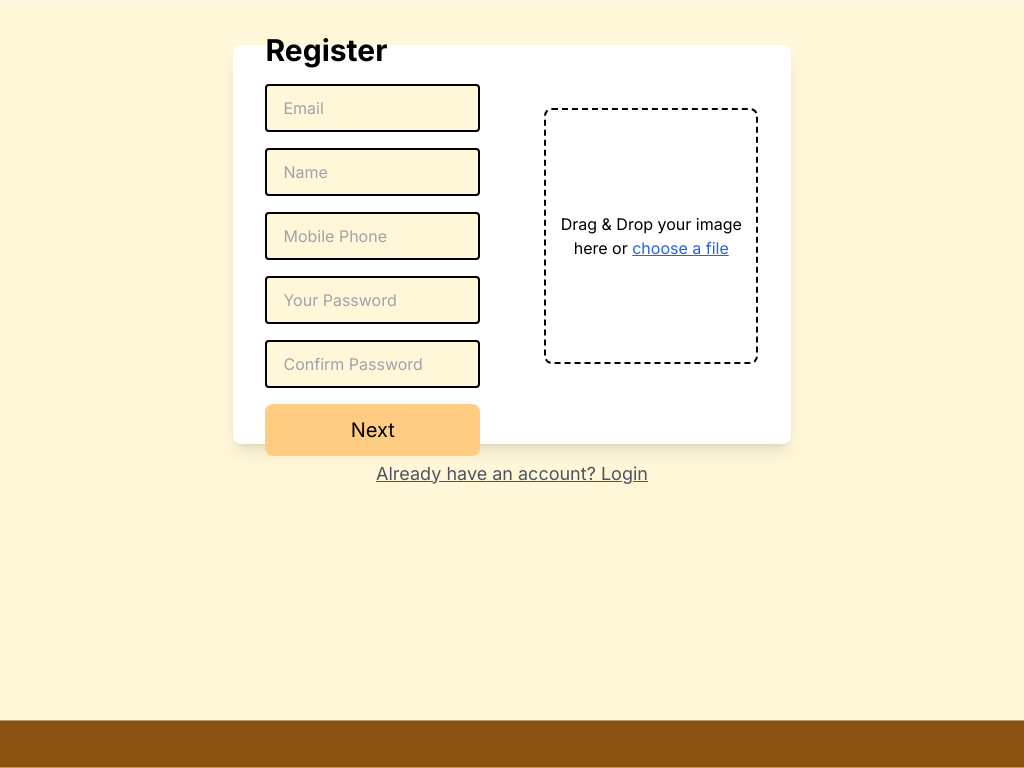
it: UserSignUp Component › handles signup failure and displays error
Type "test@example.com" into the field with placeholder "Email". click: (373, 108)
box: 266,84 -> 480,132
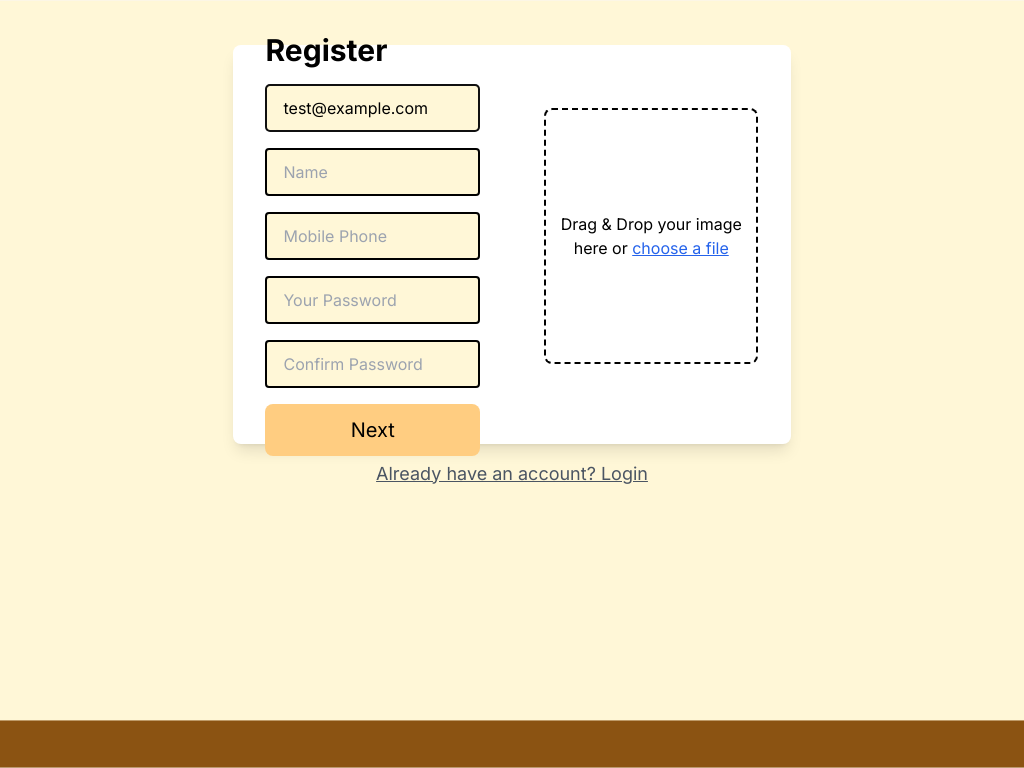
Type "John Doe" into the field with placeholder "Name". click: (373, 172)
box: 266,148 -> 480,196
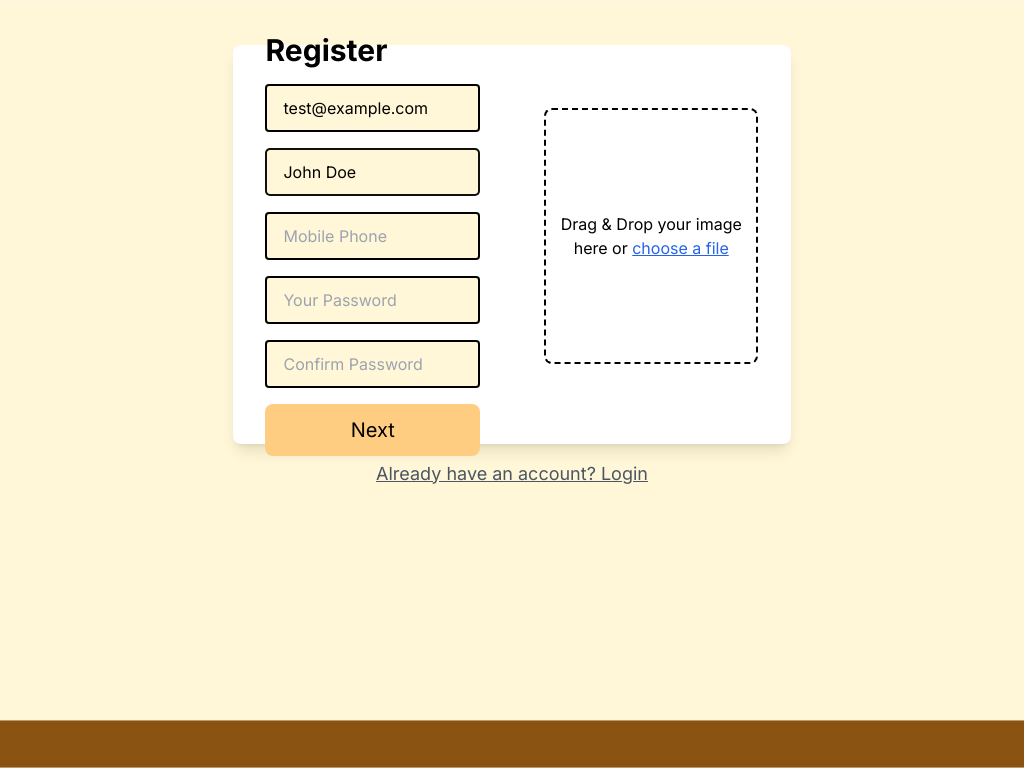
Type "1234567890" into the field with placeholder "Mobile Phone". click: (373, 236)
box: 266,212 -> 480,260
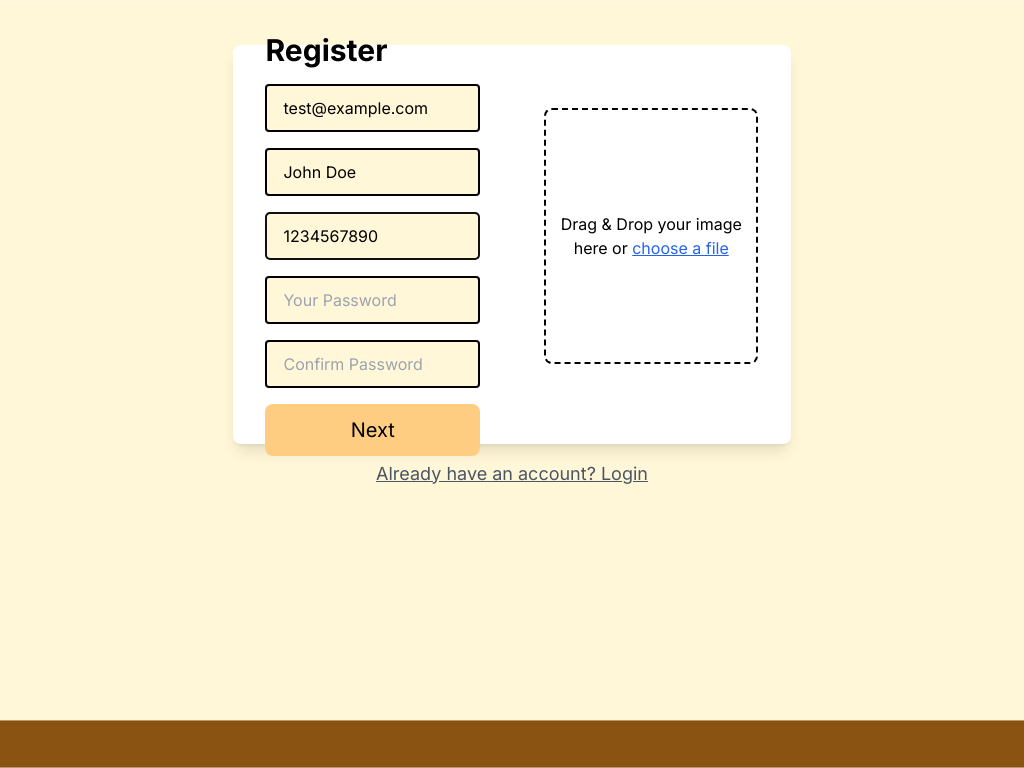
Type "password123" into the password field with placeholder "Your Password". click: (373, 300)
box: 266,276 -> 480,324
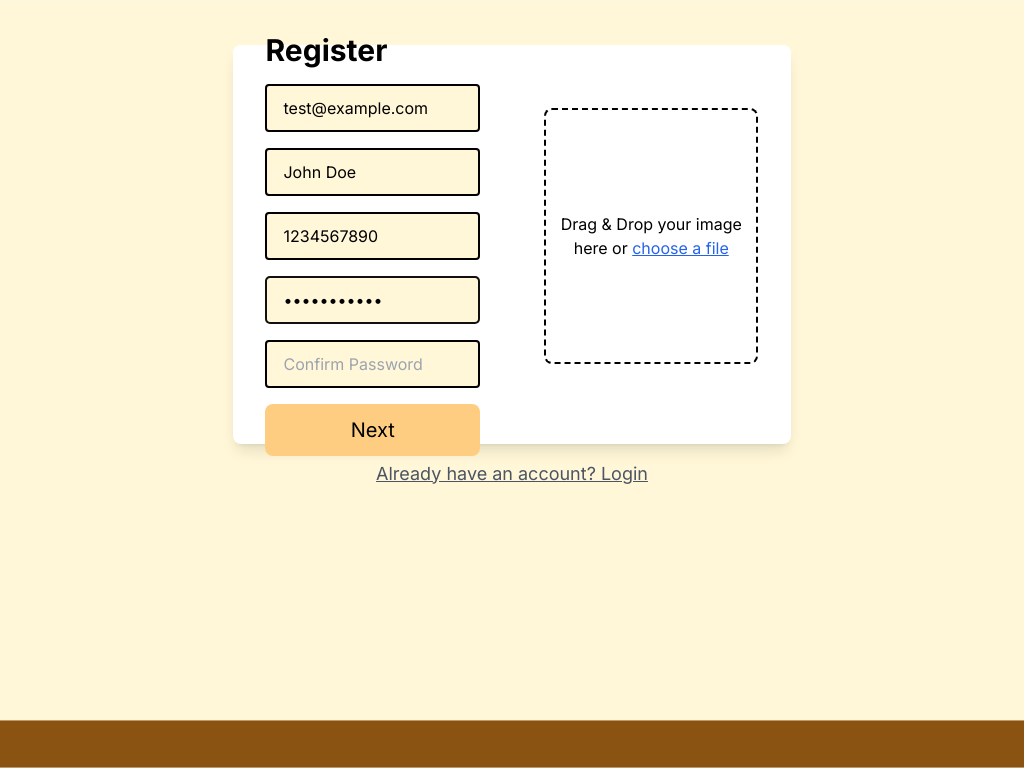
Type "password123" into the password field with placeholder "Confirm Password". click: (373, 364)
box: 266,340 -> 480,388
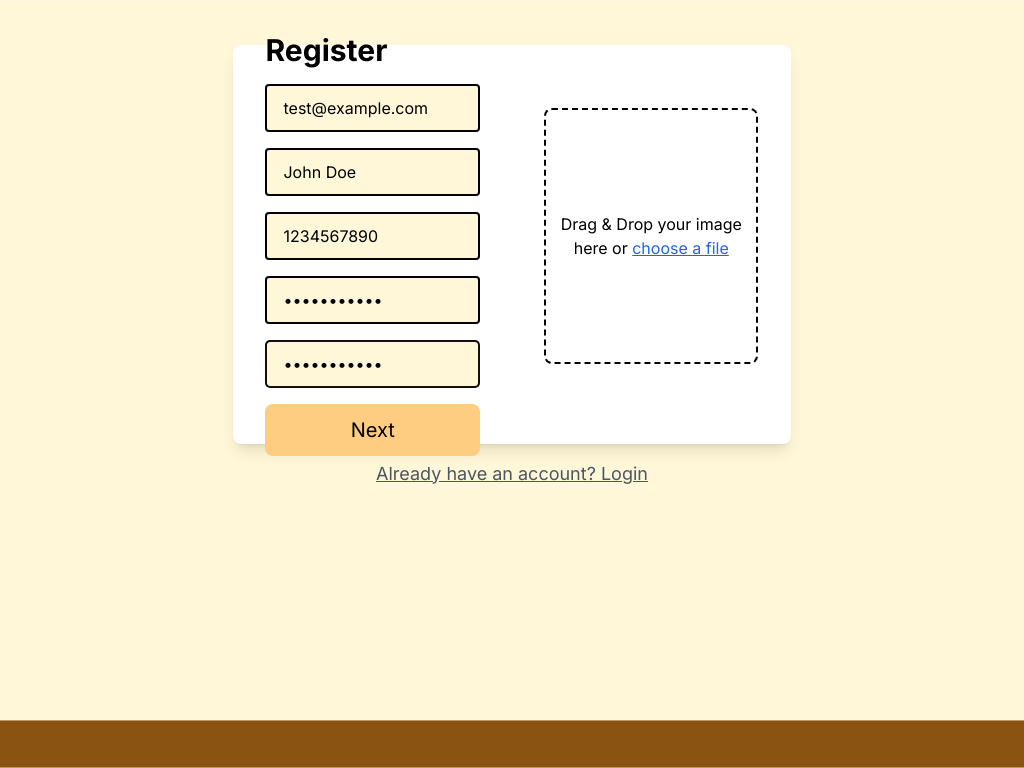
Note: Submit form
Click the button "Next". click: (373, 430)
box: 266,404 -> 480,456
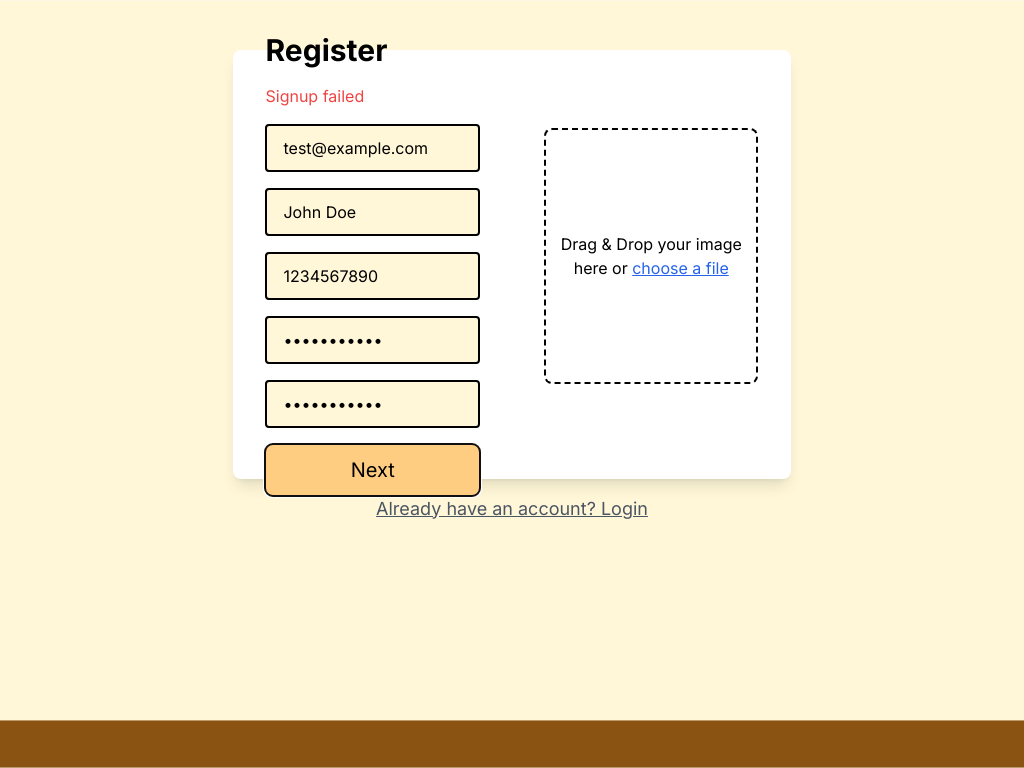
Now the text "Signup failed" is shown, box 266,86 -> 364,106
